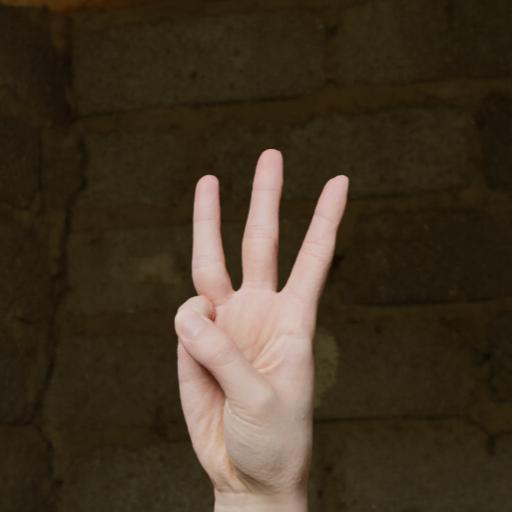W: (152, 133, 364, 505)
